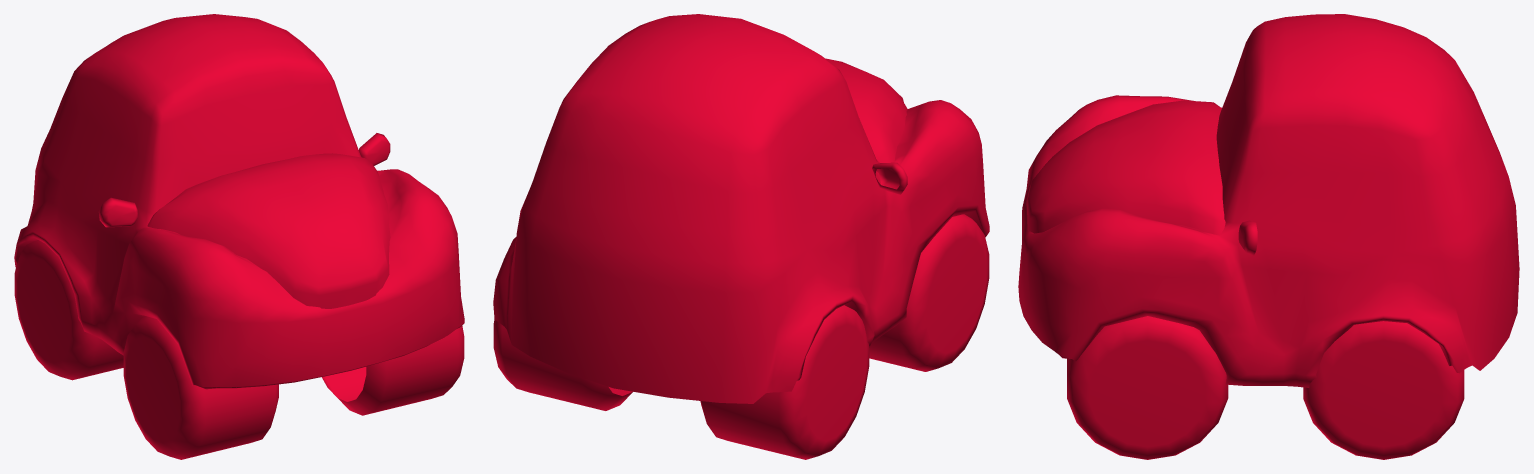
The picture shows the model from 3 angles, left to right: view 1: azimuth 30°, elevation 25°; view 2: azimuth 150°, elevation 25°; view 3: azimuth 270°, elevation 25°; orthographic projection. The views are drawn at different scales.
Visible parts, largest first — view 1: Do, DoBanh; view 2: Do, DoBanh; view 3: Do, DoBanh.
Part boxes in pixels (x1=…): Do: x1=14, y1=14, x2=464, y2=389; DoBanh: x1=14, y1=240, x2=464, y2=459; Do: x1=493, y1=14, x2=989, y2=403; DoBanh: x1=493, y1=214, x2=989, y2=459; Do: x1=1018, y1=14, x2=1519, y2=387; DoBanh: x1=1067, y1=316, x2=1464, y2=459.
Bounding box in the file's own units: 1.76 × 2.44 × 1.93.
